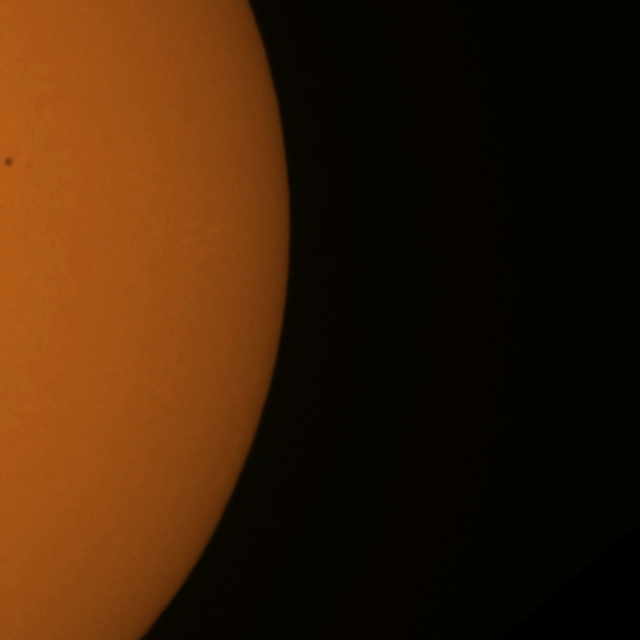sunspot: (2, 155, 15, 170)
